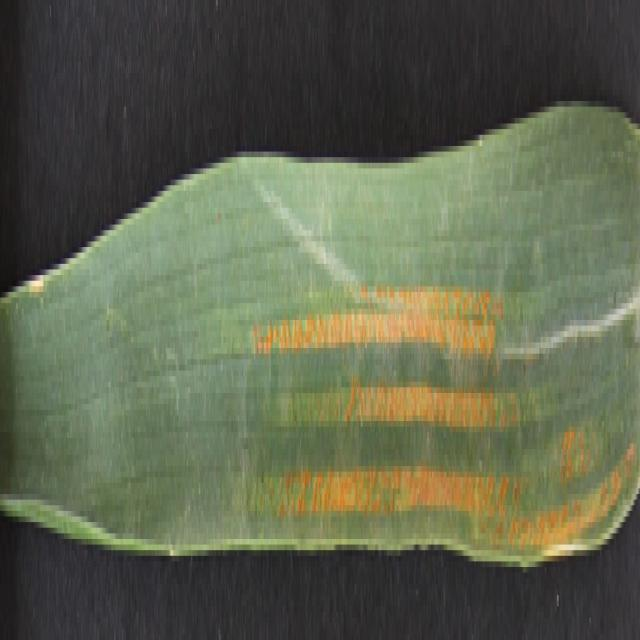leaf rust: (244, 219, 640, 550)
